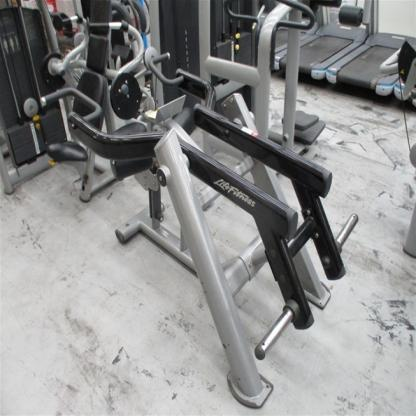seated dip machine: (42, 54, 360, 408)
